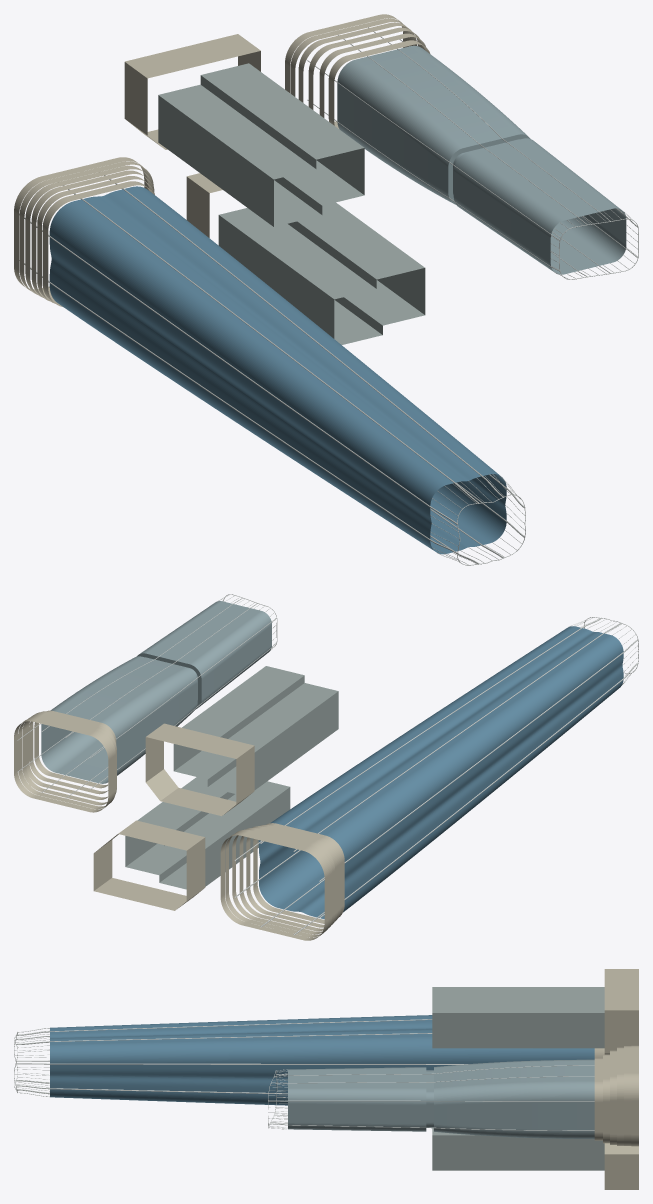
Rendered from hoi-luu-r1.obj.
The picture shows the model from 3 angles, top to bottom: view 1: azimuth 30°, elevation 25°; view 2: azimuth 150°, elevation 25°; view 3: azimuth 270°, elevation 25°; orthographic projection. The views are drawn at different scales.
Visible parts, largest first — view 1: A_glass_envelope, D_glass_envelope, B_REFERENCE_ONLY, C_REFERENCE_ONLY, B_podium_REFERENCE, C_podium_REFERENCE, A_podium_1, A_podium_6, A_podium_2, A_podium_3, A_podium_4, A_podium_5 (+10 smaller); view 2: A_glass_envelope, D_glass_envelope, B_REFERENCE_ONLY, C_REFERENCE_ONLY, B_podium_REFERENCE, C_podium_REFERENCE, A_podium_1, A_podium_2, D_podium_1, A_podium_6, A_podium_3, D_podium_2 (+10 smaller); view 3: A_glass_envelope, D_glass_envelope, B_REFERENCE_ONLY, C_REFERENCE_ONLY, B_podium_REFERENCE, C_podium_REFERENCE, D_podium_1, D_podium_2, D_podium_6, A_rib_1, D_podium_3, D_podium_4 (+8 smaller).
Boxes of the visible parts, bbox=[...] form: A_glass_envelope: bbox=[49, 186, 506, 554]; D_glass_envelope: bbox=[337, 45, 626, 274]; B_REFERENCE_ONLY: bbox=[158, 63, 364, 226]; C_REFERENCE_ONLY: bbox=[218, 202, 425, 344]; B_podium_REFERENCE: bbox=[124, 34, 260, 149]; C_podium_REFERENCE: bbox=[186, 173, 222, 237]; A_podium_1: bbox=[14, 157, 148, 292]; A_podium_6: bbox=[42, 181, 154, 306]; A_podium_2: bbox=[19, 161, 153, 295]; A_podium_3: bbox=[25, 165, 154, 298]; A_podium_4: bbox=[31, 170, 154, 301]; A_podium_5: bbox=[37, 176, 154, 303]; A_glass_envelope: bbox=[259, 626, 623, 919]; D_glass_envelope: bbox=[41, 601, 271, 783]; B_REFERENCE_ONLY: bbox=[173, 666, 338, 793]; C_REFERENCE_ONLY: bbox=[125, 777, 290, 889]; B_podium_REFERENCE: bbox=[145, 723, 254, 816]; C_podium_REFERENCE: bbox=[93, 820, 205, 910]; A_podium_1: bbox=[220, 832, 328, 940]; A_podium_2: bbox=[225, 829, 332, 937]; D_podium_1: bbox=[14, 718, 112, 812]; A_podium_6: bbox=[253, 823, 344, 923]; A_podium_3: bbox=[232, 828, 334, 934]; D_podium_2: bbox=[18, 715, 115, 809]; A_glass_envelope: bbox=[50, 1015, 594, 1105]; D_glass_envelope: bbox=[288, 1059, 594, 1138]; B_REFERENCE_ONLY: bbox=[432, 987, 604, 1048]; C_REFERENCE_ONLY: bbox=[432, 1128, 604, 1170]; B_podium_REFERENCE: bbox=[604, 969, 638, 1054]; C_podium_REFERENCE: bbox=[604, 1143, 638, 1189]; D_podium_1: bbox=[631, 1045, 638, 1146]; D_podium_2: bbox=[624, 1046, 631, 1145]; D_podium_6: bbox=[594, 1058, 602, 1140]; A_rib_1: bbox=[16, 1063, 467, 1064]; D_podium_3: bbox=[617, 1047, 623, 1145]; D_podium_4: bbox=[610, 1050, 616, 1144].
Bounding box in the file's own units: 257 × 132 × 480.
